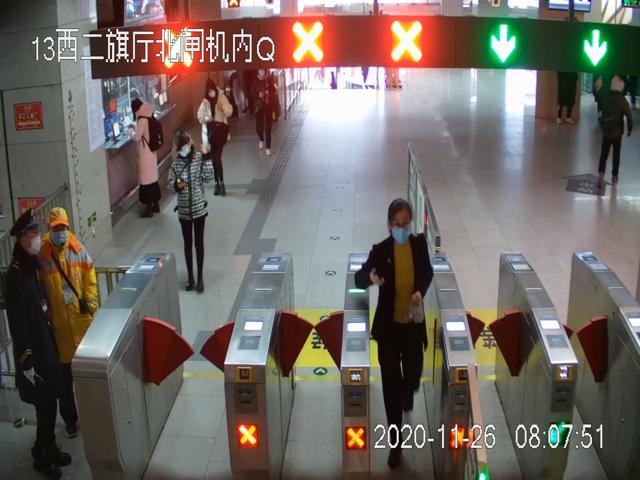person: (353, 198, 434, 464), (0, 207, 71, 478), (39, 208, 99, 437), (166, 132, 213, 292), (196, 79, 233, 197), (129, 98, 164, 217)
